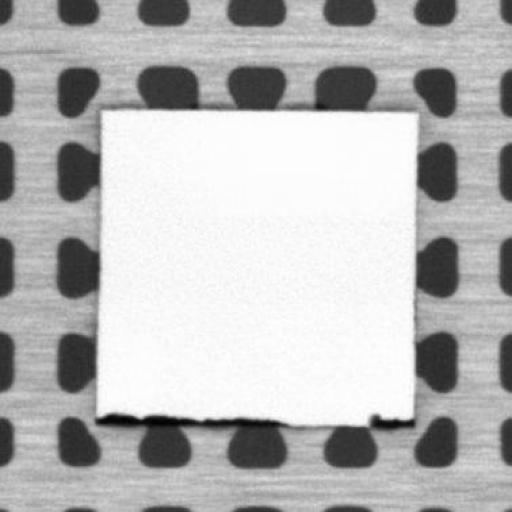DIE_BROKEN: (92, 405, 289, 427), (362, 410, 414, 428)
